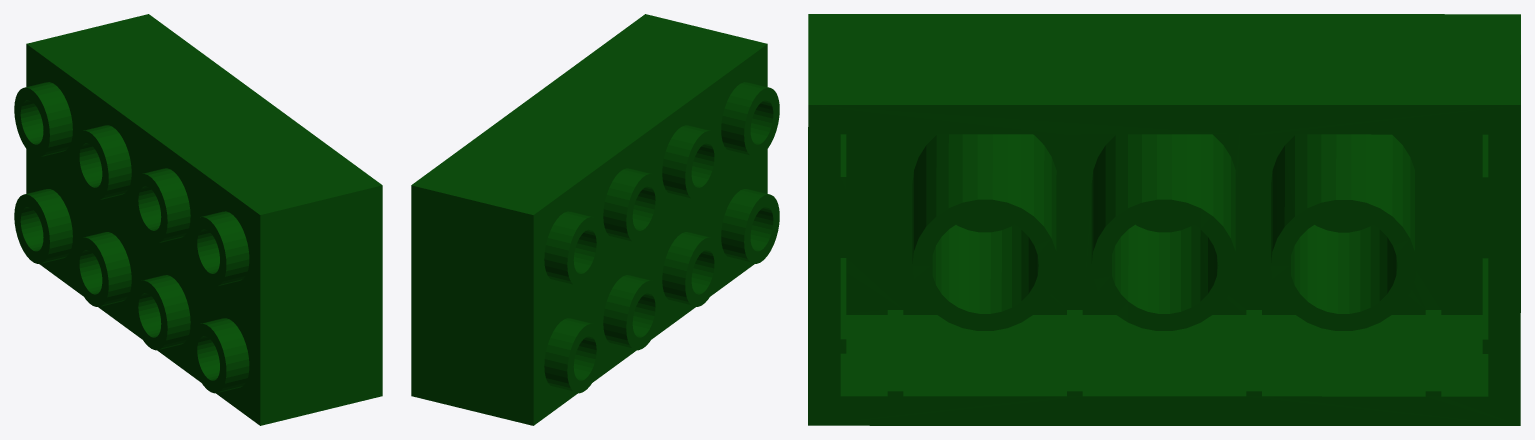
Rendered from duplo2_2.dae.
The picture shows the model from 3 angles, left to right: view 1: azimuth 30°, elevation 25°; view 2: azimuth 150°, elevation 25°; view 3: azimuth 270°, elevation 25°; orthographic projection. The views are drawn at different scales.
Parts seen in each view (by area): view 1: duplo2; view 2: duplo2; view 3: duplo2.
Part boxes in pixels (left/top/right/bottom): duplo2: left=14, top=14, right=382, bottom=425; duplo2: left=411, top=14, right=779, bottom=425; duplo2: left=808, top=14, right=1520, bottom=425.
Size of the model in its own units: 0.0418 by 0.1164 by 0.0578.
